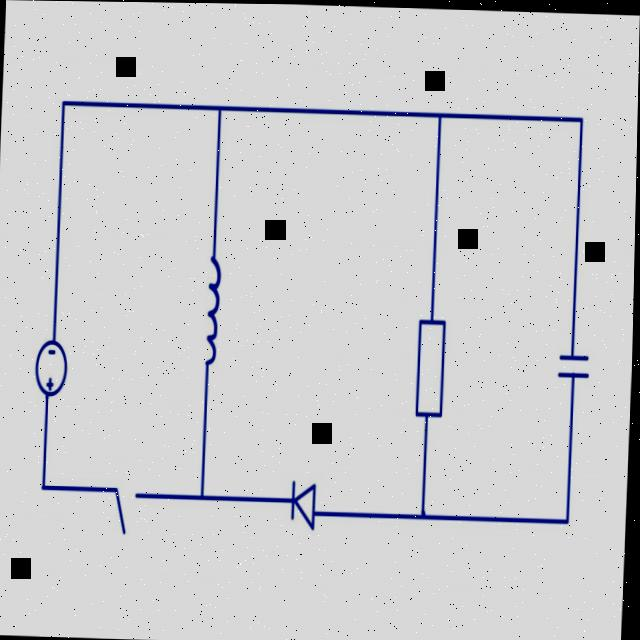capacitor: (550, 327, 594, 399)
diode: (275, 458, 332, 544)
inductor: (187, 232, 237, 387)
resistor: (412, 312, 453, 427)
source: (24, 322, 79, 408)
switch: (100, 467, 158, 545)
